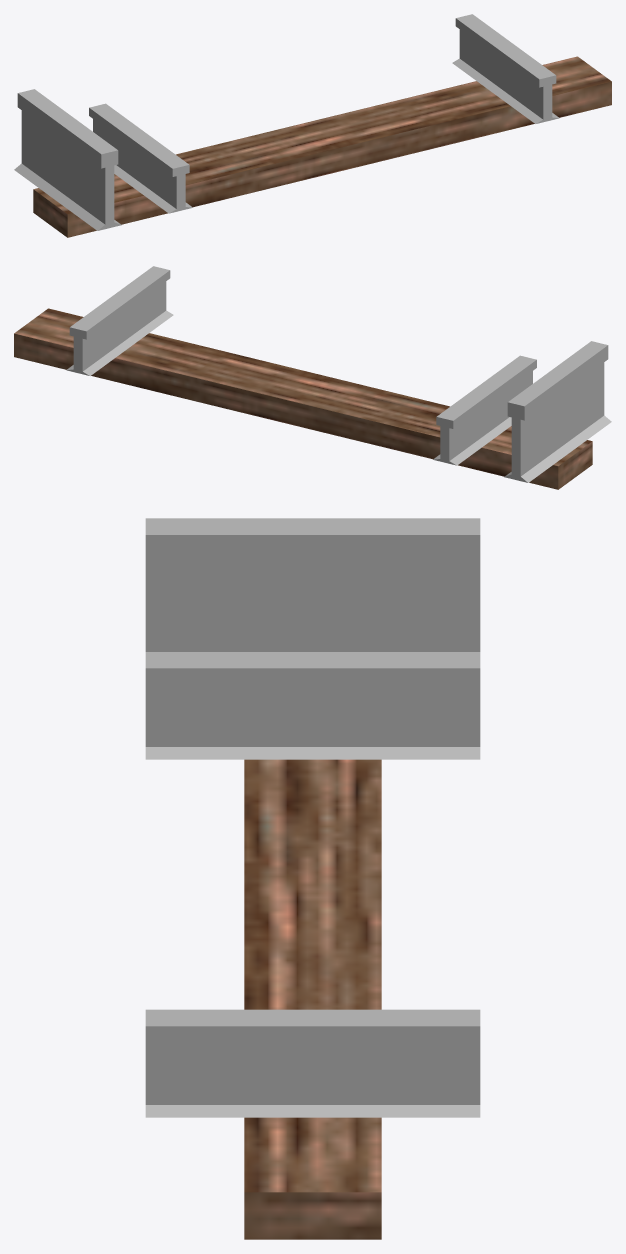
The model's file is nyc_subway_rail_2_third_rail.obj.
3 views of the same model, one above another, from view 1: azimuth 30°, elevation 25°; view 2: azimuth 150°, elevation 25°; view 3: azimuth 270°, elevation 25° (orthographic). The views are drawn at different scales.
Parts seen in each view (by area): view 1: cube; view 2: cube; view 3: cube.
Part boxes in pixels (left/top/right/bottom): cube: left=14, top=14, right=611, bottom=237; cube: left=14, top=266, right=611, bottom=489; cube: left=145, top=518, right=480, bottom=1239.
Size of the model in its own units: 2.23 by 0.3891 by 0.5938.
2 materials, 2 textured.
